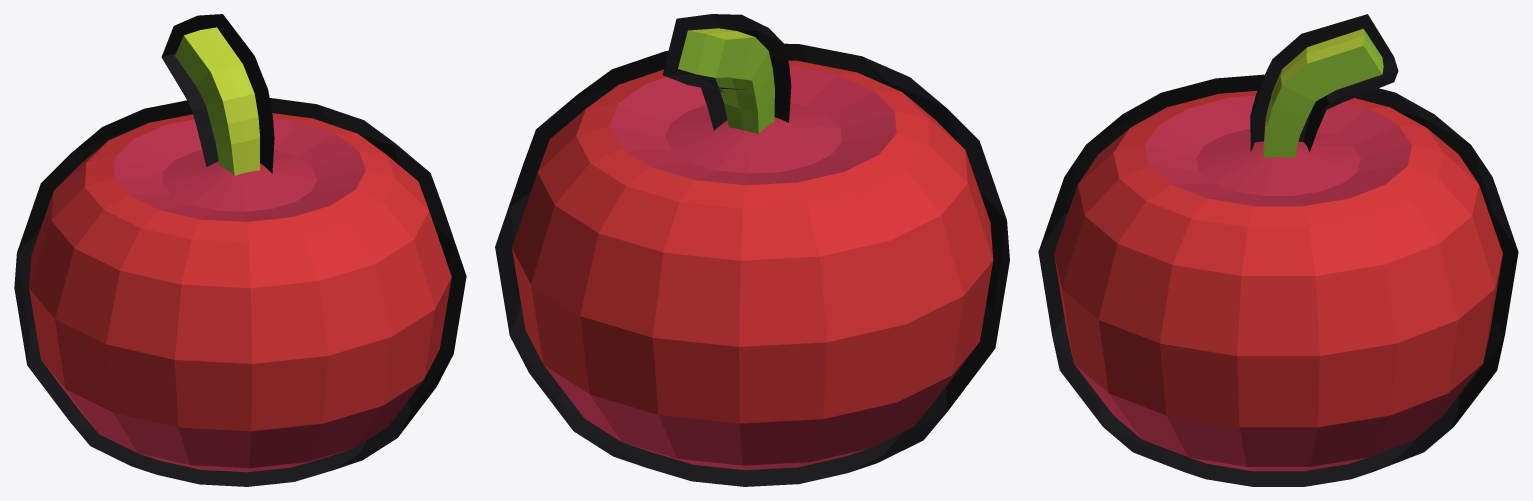
Rendered from Pinball_Scifi.fbx.
3 renders of one model, left to right at view 1: azimuth 30°, elevation 25°; view 2: azimuth 150°, elevation 25°; view 3: azimuth 270°, elevation 25°, orthographic. The views are drawn at different scales.
Visible parts, largest first — view 1: Sphere; view 2: Sphere; view 3: Sphere.
Part boxes in pixels (x1,y1,x2,y2): Sphere: (14,14,466,486); Sphere: (495,14,1009,486); Sphere: (1038,14,1518,486).
Bounding box in the file's own units: 3.24 × 3.05 × 3.26.
